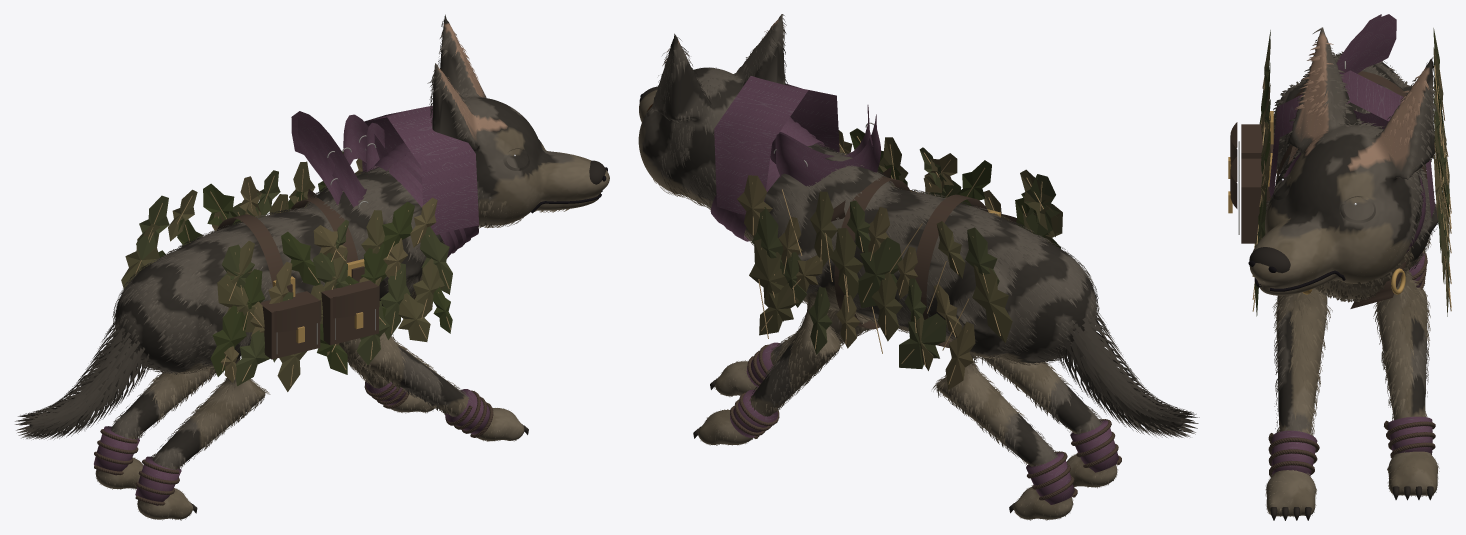
The model's file is 03_Kage.glb.
3 renders of one model, left to right at view 1: azimuth 30°, elevation 25°; view 2: azimuth 150°, elevation 25°; view 3: azimuth 270°, elevation 25°, orthographic. The views are drawn at different scales.
Parts seen in each view (by area): view 1: ANATOMY | unified canine skin, FUR | groomed tapered surface clumps, CLOTH | folded ambusher hood, FUR | directional tail plume, CLOTH | trailing scarf panel 0, CLOTH | trailing scarf panel 1, KIT | stitched leather pouch, KIT | stitched leather pouch.001, CAMOUFLAGE | lobed oak leaf.016, CLOTH | layered neck scarf.002, TACK | shaped belly girth, CAMOUFLAGE | lobed oak leaf.022 (+22 smaller); view 2: ANATOMY | unified canine skin, FUR | groomed tapered surface clumps, CLOTH | folded ambusher hood, FUR | directional tail plume, CLOTH | trailing scarf panel 0, TACK | shaped belly girth, CAMOUFLAGE | lobed oak leaf.043, CAMOUFLAGE | lobed oak leaf.040, CAMOUFLAGE | lobed oak leaf.057, CAMOUFLAGE | lobed oak leaf.044, CAMOUFLAGE | lobed oak leaf.055, TACK | fitted ankle wrap.003 (+24 smaller); view 3: ANATOMY | unified canine skin, FUR | groomed tapered surface clumps, CLOTH | folded ambusher hood, CLOTH | trailing scarf panel 1, KIT | stitched leather pouch.001, TACK | fitted ankle wrap, TACK | fitted ankle wrap.001, KIT | stitched leather pouch, FACE | shaped leather nose, EXPORT | TACK | crossed ankle binding core, TACK | chest harness strap.001, EXPORT | TACK | crossed ankle binding core.001 (+12 smaller).
Part boxes in pixels (x1,y1,x2,y2): ANATOMY | unified canine skin: (95,14,609,519); FUR | groomed tapered surface clumps: (96,20,568,520); CLOTH | folded ambusher hood: (362,105,479,235); FUR | directional tail plume: (15,322,152,439); CLOTH | trailing scarf panel 0: (297,114,388,205); CLOTH | trailing scarf panel 1: (291,111,384,207); KIT | stitched leather pouch: (260,291,320,359); KIT | stitched leather pouch.001: (321,280,378,345); CAMOUFLAGE | lobed oak leaf.016: (210,305,246,376); CLOTH | layered neck scarf.002: (374,156,463,258); TACK | shaped belly girth: (216,214,283,286); CAMOUFLAGE | lobed oak leaf.022: (380,263,410,339); ANATOMY | unified canine skin: (638,14,1117,519); FUR | groomed tapered surface clumps: (640,14,1117,520); CLOTH | folded ambusher hood: (714,76,839,214); FUR | directional tail plume: (1055,310,1199,437); CLOTH | trailing scarf panel 0: (775,114,880,186); TACK | shaped belly girth: (914,194,988,347); CAMOUFLAGE | lobed oak leaf.043: (858,237,901,307); CAMOUFLAGE | lobed oak leaf.040: (972,265,1012,342); CAMOUFLAGE | lobed oak leaf.057: (899,313,946,368); CAMOUFLAGE | lobed oak leaf.044: (829,228,863,299); CAMOUFLAGE | lobed oak leaf.055: (749,239,787,321); TACK | fitted ankle wrap.003: (1026,452,1074,504); ANATOMY | unified canine skin: (1249,27,1438,516); FUR | groomed tapered surface clumps: (1265,28,1439,516); CLOTH | folded ambusher hood: (1269,70,1434,218); CLOTH | trailing scarf panel 1: (1336,14,1396,128); KIT | stitched leather pouch.001: (1241,158,1270,243); TACK | fitted ankle wrap: (1271,430,1317,476); TACK | fitted ankle wrap.001: (1387,416,1432,454); KIT | stitched leather pouch: (1241,124,1273,158); FACE | shaped leather nose: (1249,247,1290,273); EXPORT | TACK | crossed ankle binding core: (1268,433,1319,476); TACK | chest harness strap.001: (1350,257,1408,308); EXPORT | TACK | crossed ankle binding core.001: (1384,421,1434,456).
Size of the model in its own units: 1.76 by 1.16 by 0.5121.
14 materials, 1 textured.
